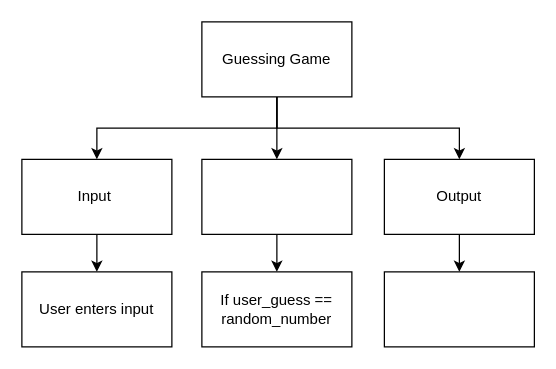
This 556x369 diagram has some shape labels left out. Each missing label, with the centre of its shape:
"Guess is correct" belongs at point 458,309.
"Process" belongs at point 276,196.
